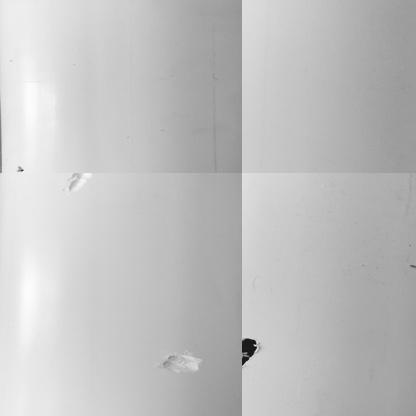kongdong: (241, 337, 259, 368)
sunshang: (156, 350, 205, 379), (61, 168, 90, 194)
